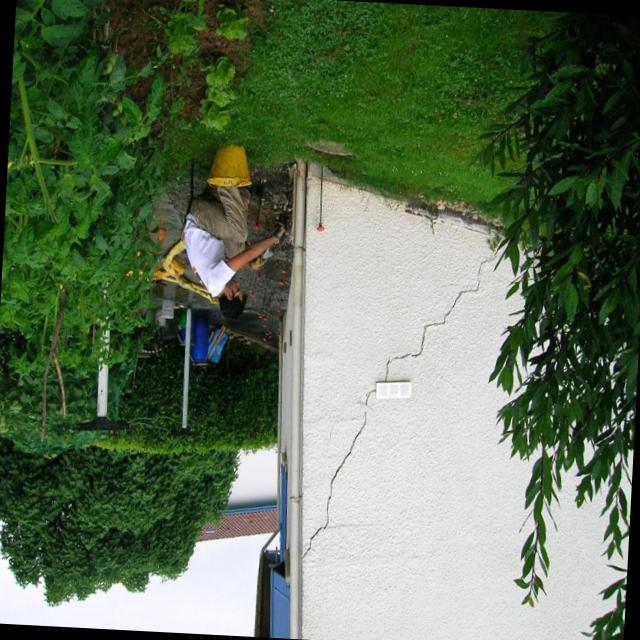crack: (383, 255, 499, 381), (299, 389, 372, 558)
